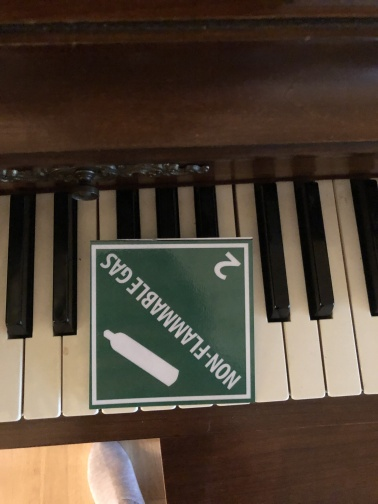NonFlammableGas: (87, 238, 255, 403)
